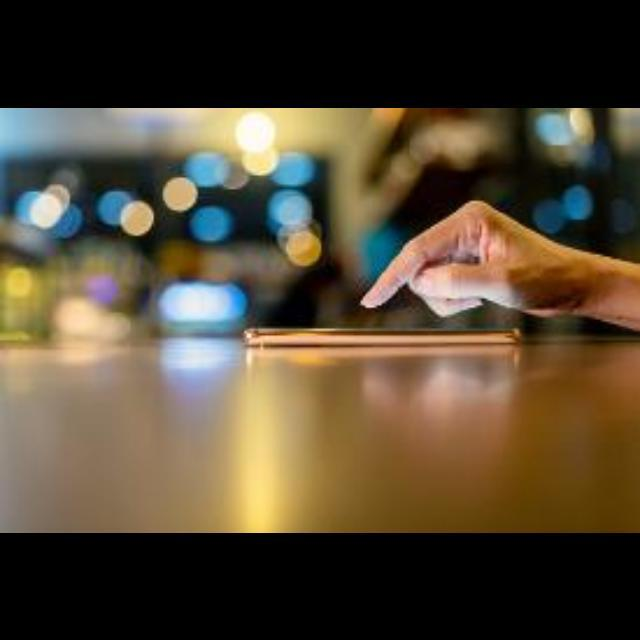Phone: (247, 318, 535, 362)
